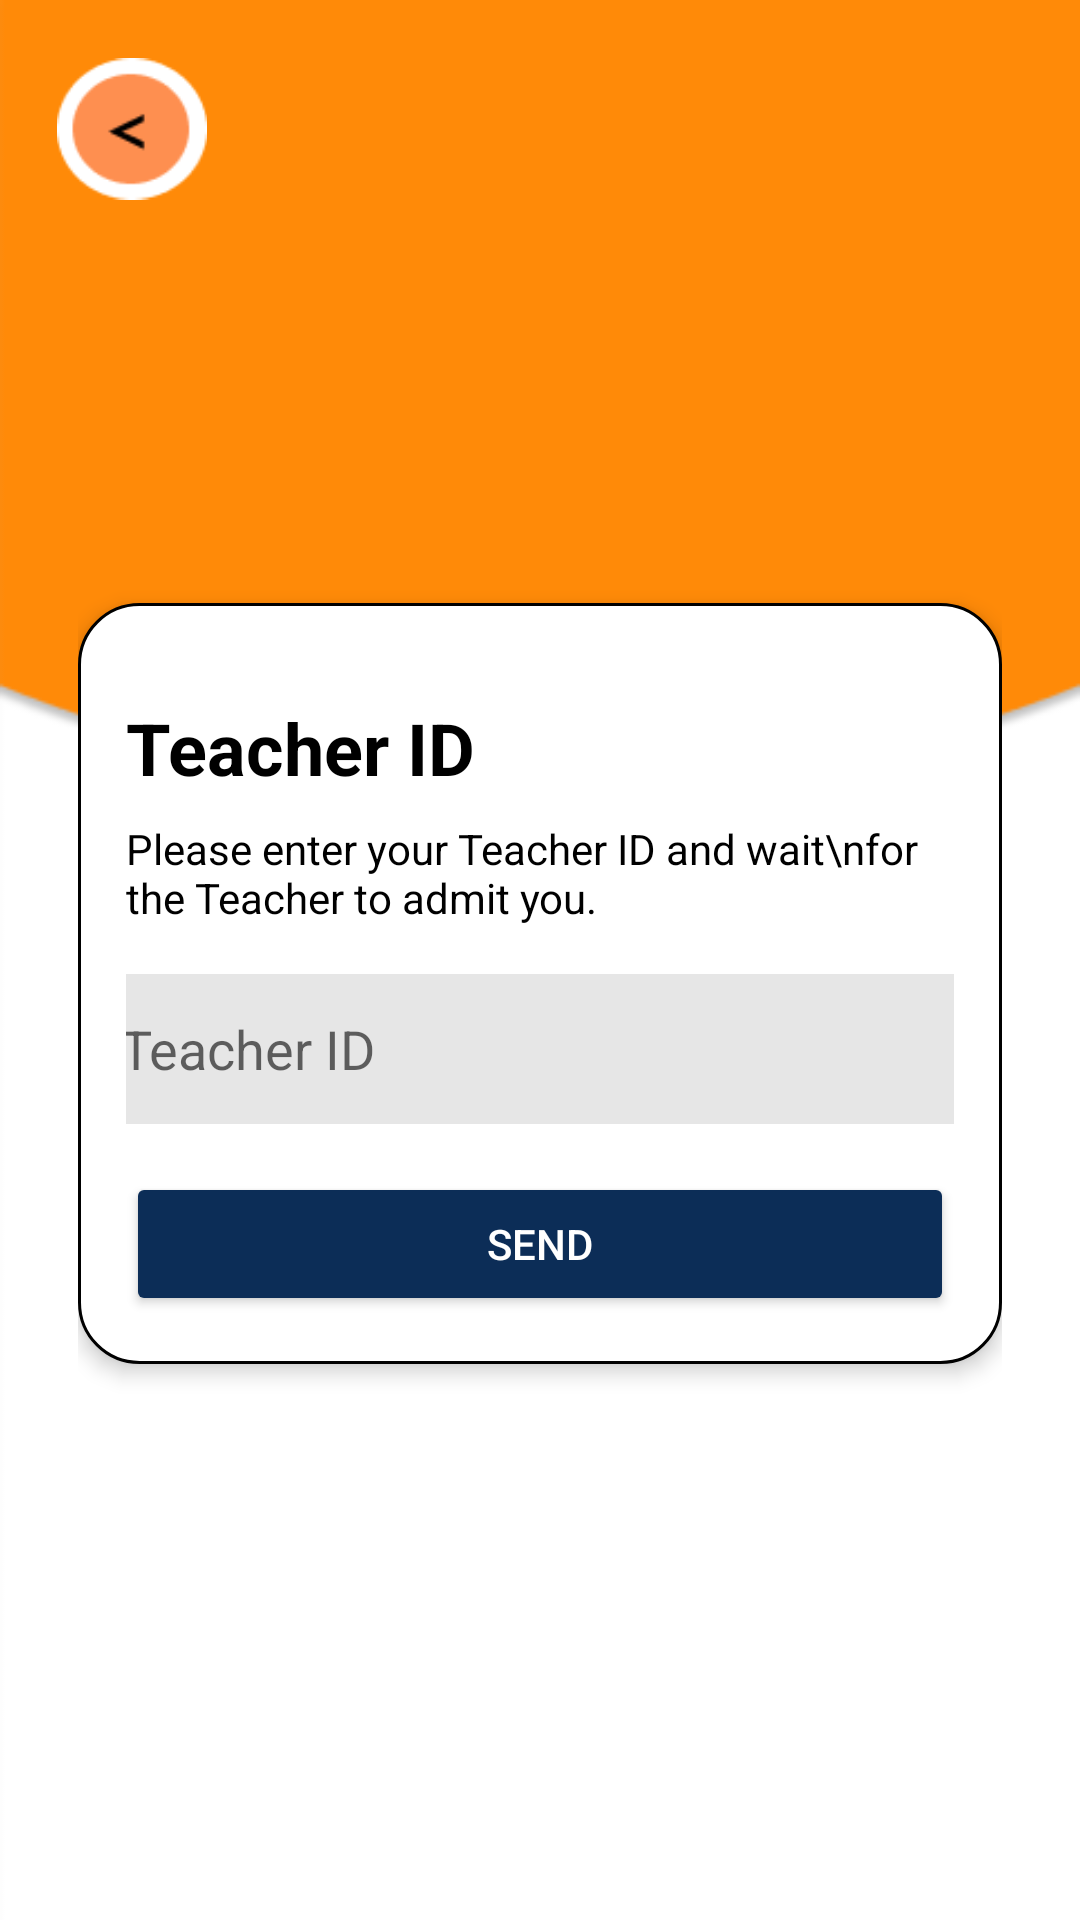

Where to tap for icons on this 1080w x 1920h app screen, as point (x, y):
Back: point (132, 129)
